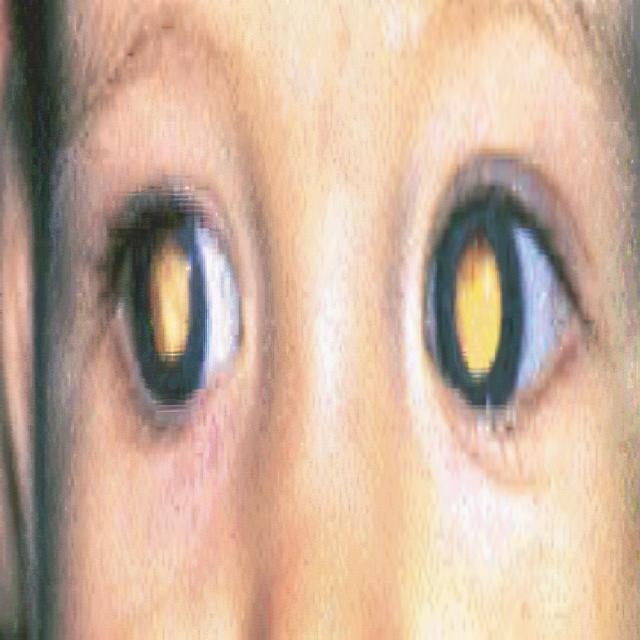reflexo-alterado: (422, 152, 588, 475), (118, 185, 248, 447)
